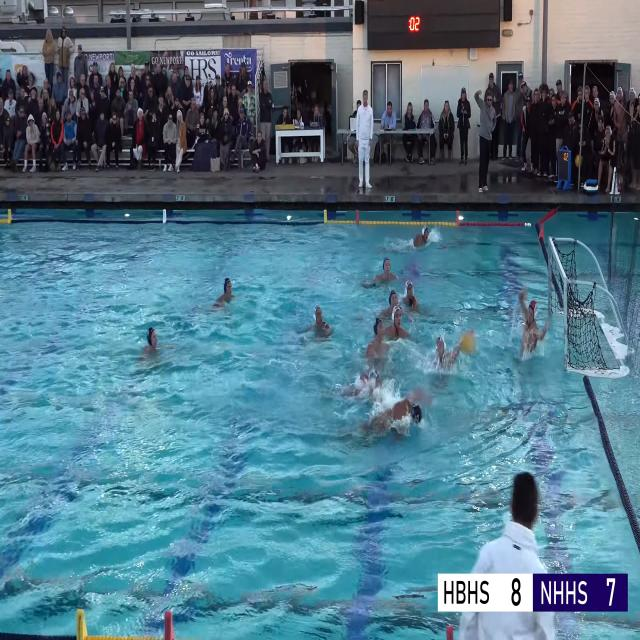ball: (461, 331, 475, 354), (575, 154, 581, 167)
